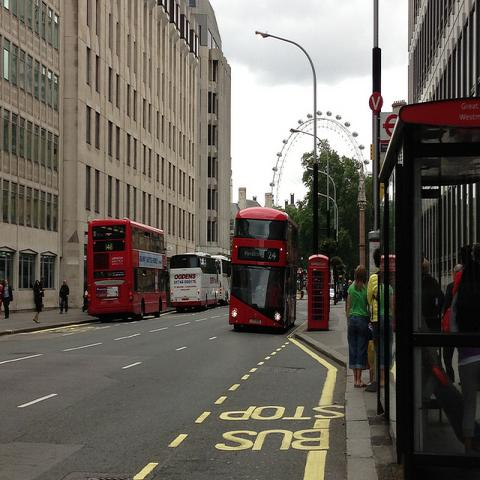bus: (87, 219, 167, 327), (232, 206, 298, 331), (169, 251, 220, 314), (213, 255, 229, 305)
